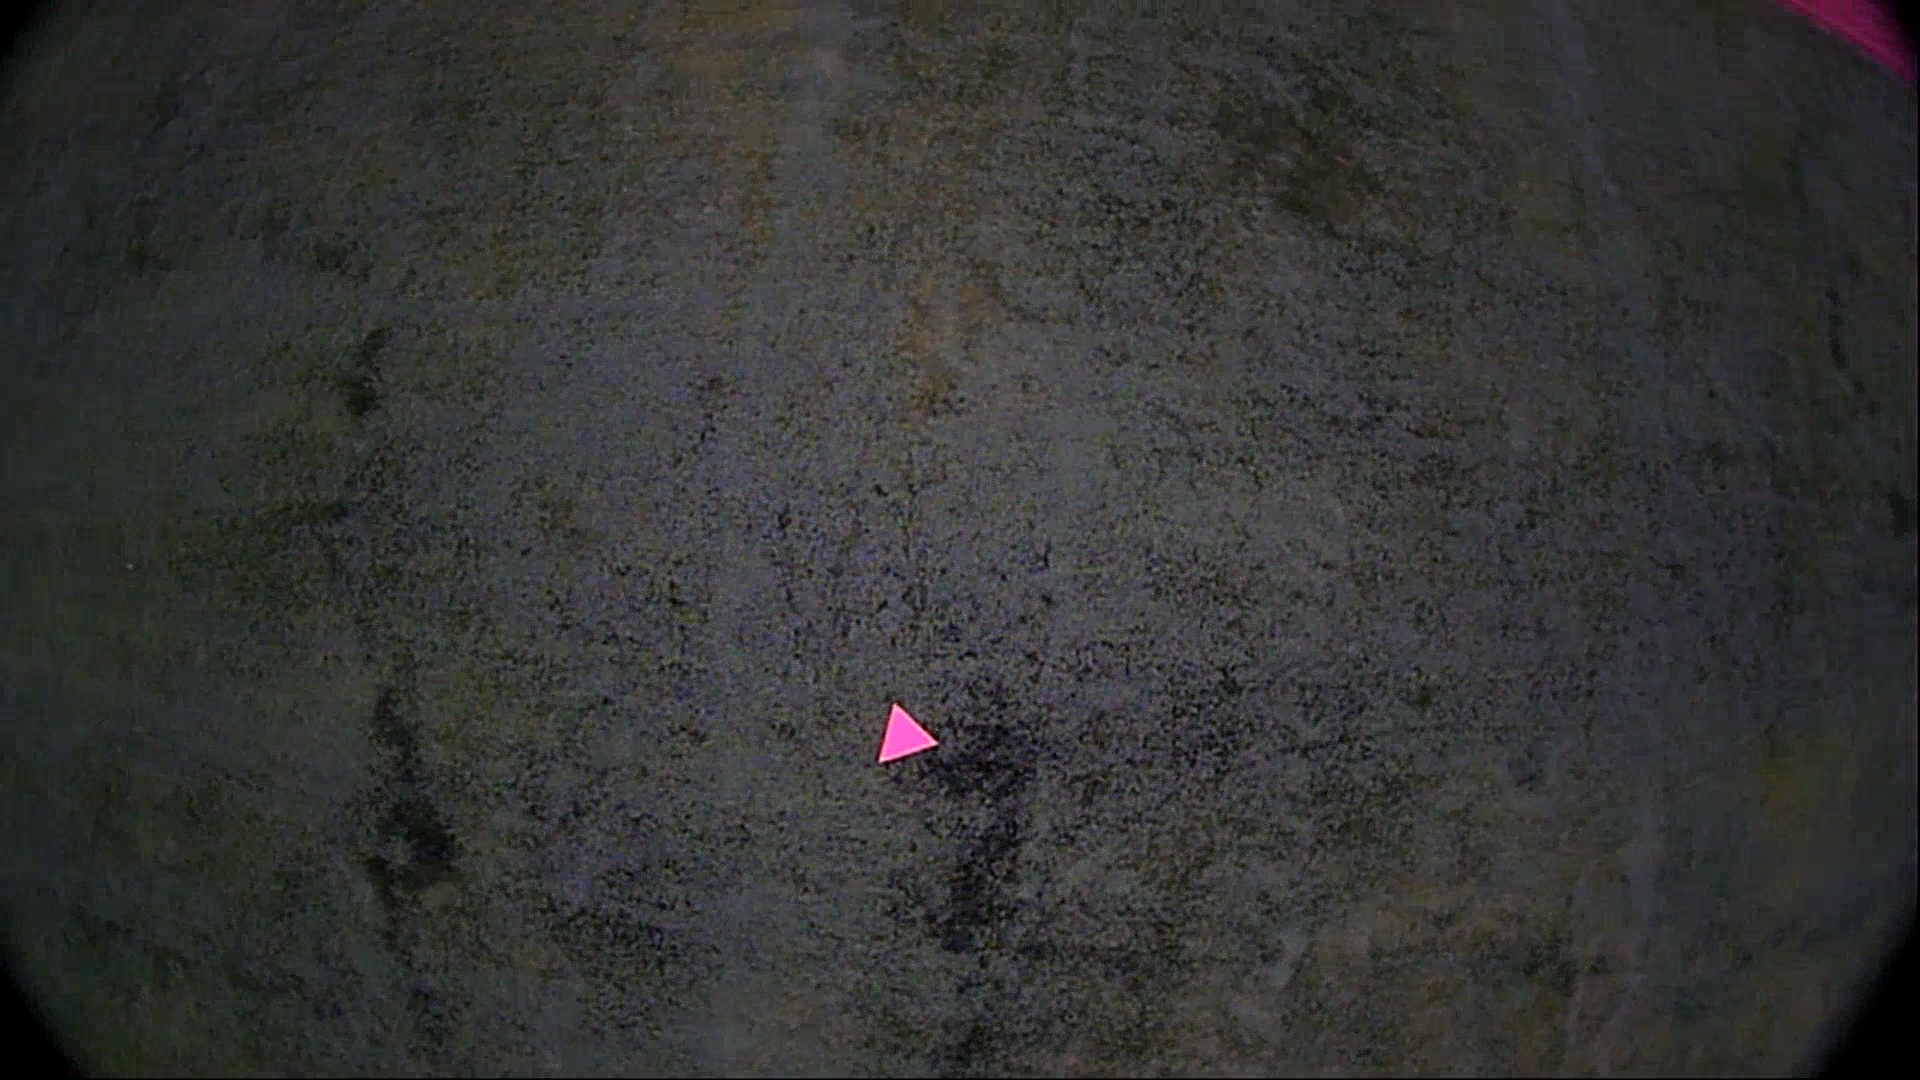triangle: (869, 694, 945, 770)
